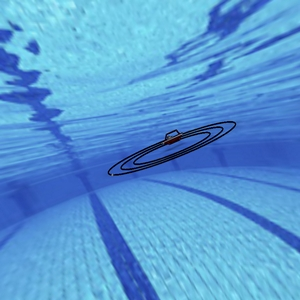circle: (105, 107, 247, 199)
submarine: (155, 123, 187, 149)
